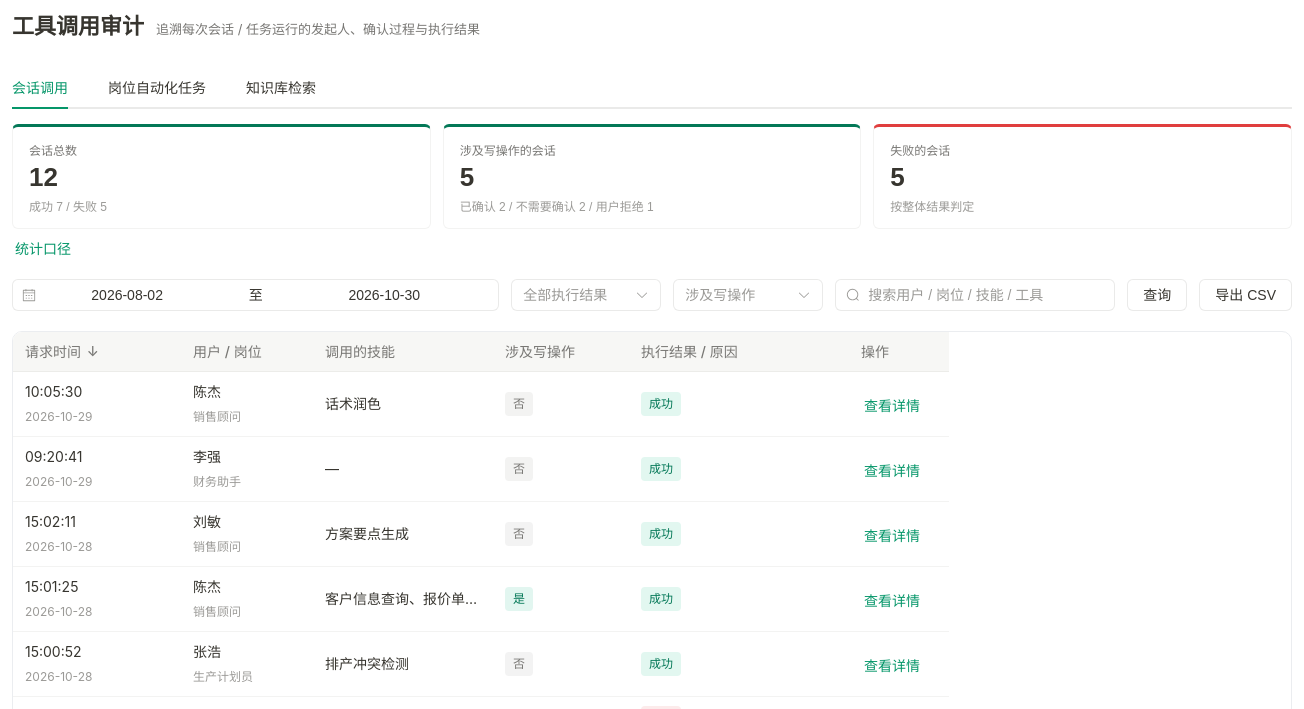
it: 知识库检索页签（PRD §九） › 搜索框按检索词过滤；命中失败的检索时展示失败原因（结果文案与另两页签统一为"失败"）
The image size is (1304, 709).
Click the tab "知识库检索": (281, 88) x1=246 y1=79 x2=316 y2=96
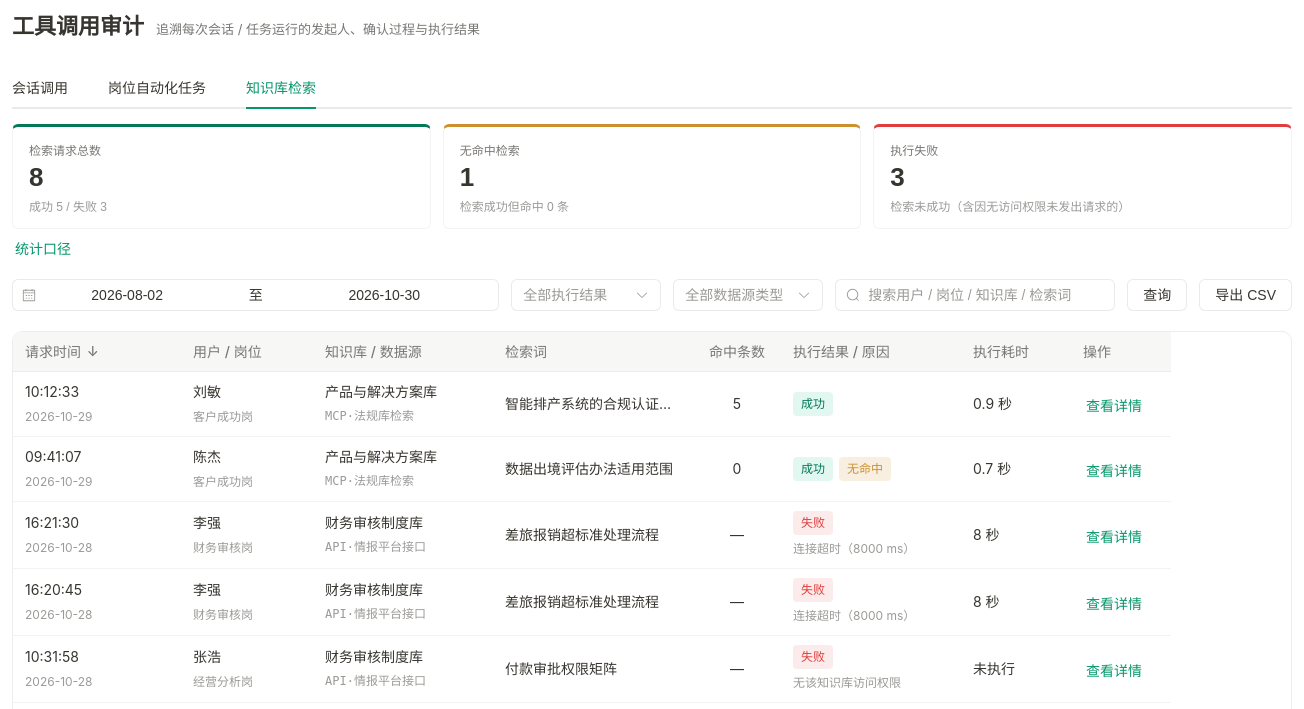
In the field with placeholder "搜索用户 / 岗位 / 知识库 / 检索词": (986, 295) x1=868 y1=280 x2=1104 y2=310, type "差旅报销"
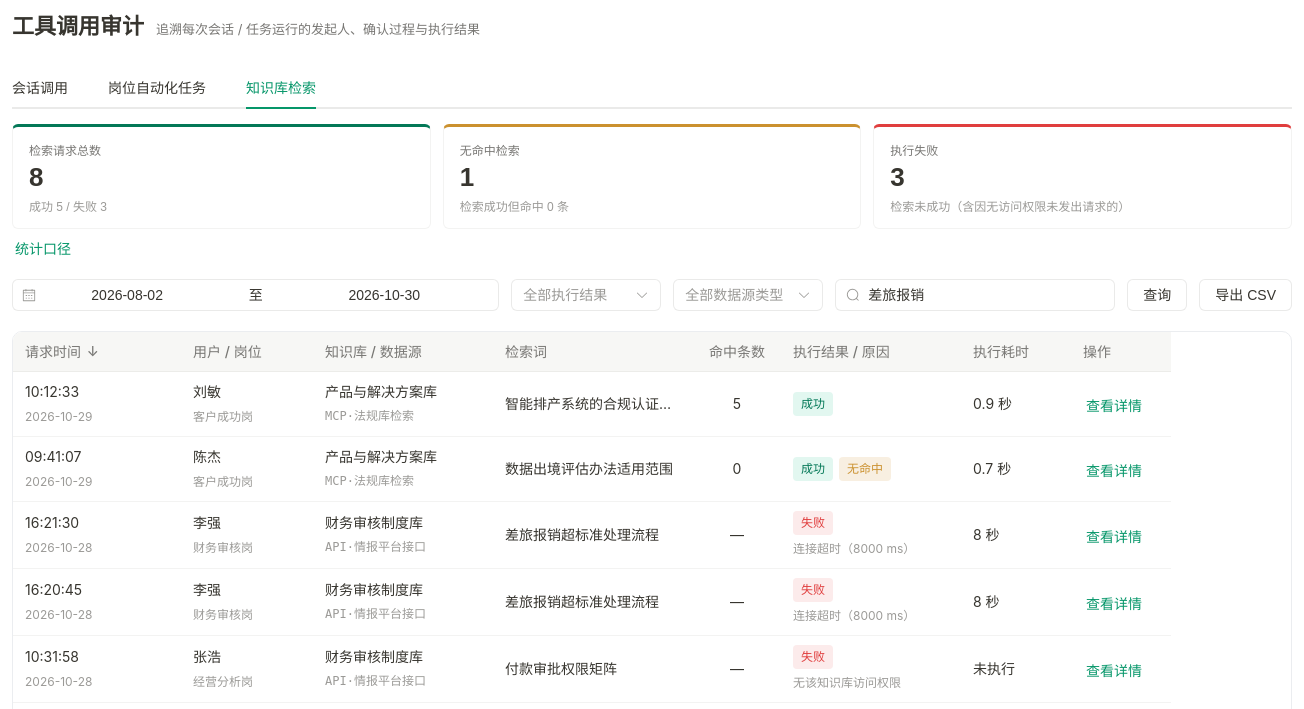
Press Enter in the field with placeholder "搜索用户 / 岗位 / 知识库 / 检索词", box x1=868 y1=280 x2=1104 y2=310
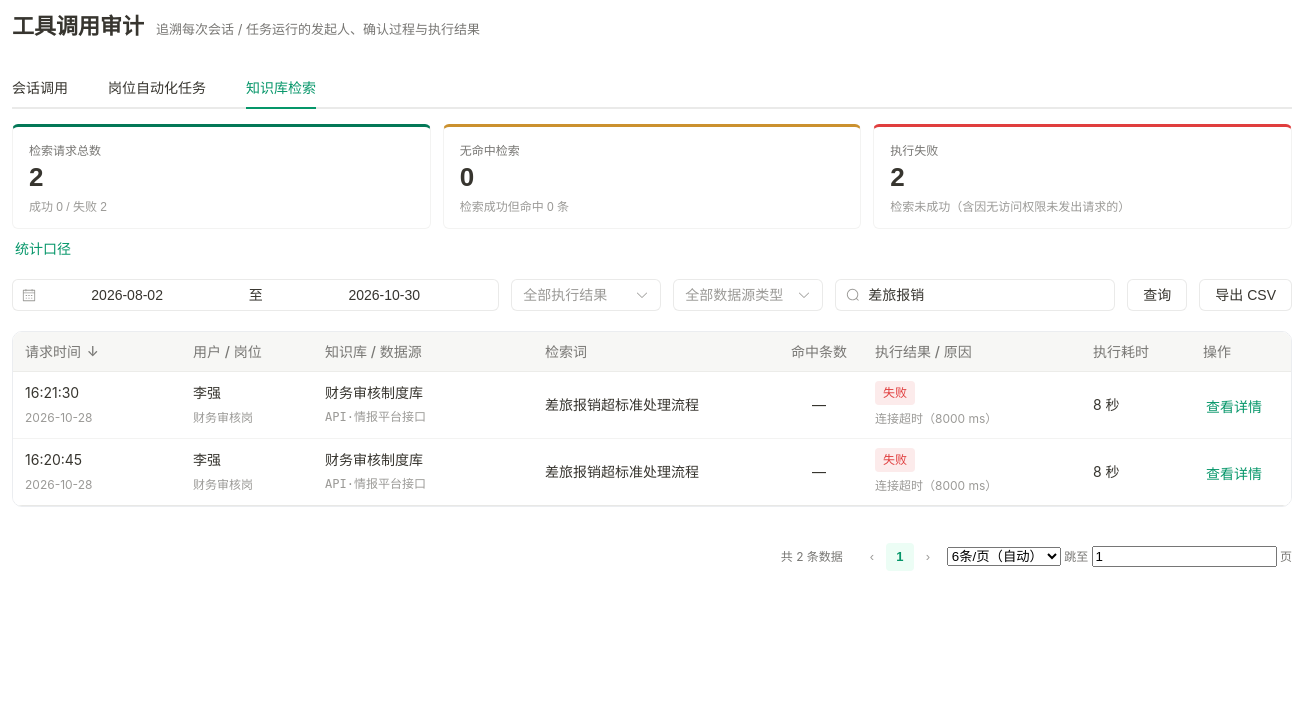
expect the text "执行失败" is not shown: met
expect the row that starts with "财务审核岗" shows "失败": met, box x1=883 y1=385 x2=907 y2=400
expect the row that starts with "财务审核岗" shows "连接超时（8000 ms）": met, box x1=875 y1=411 x2=997 y2=426
